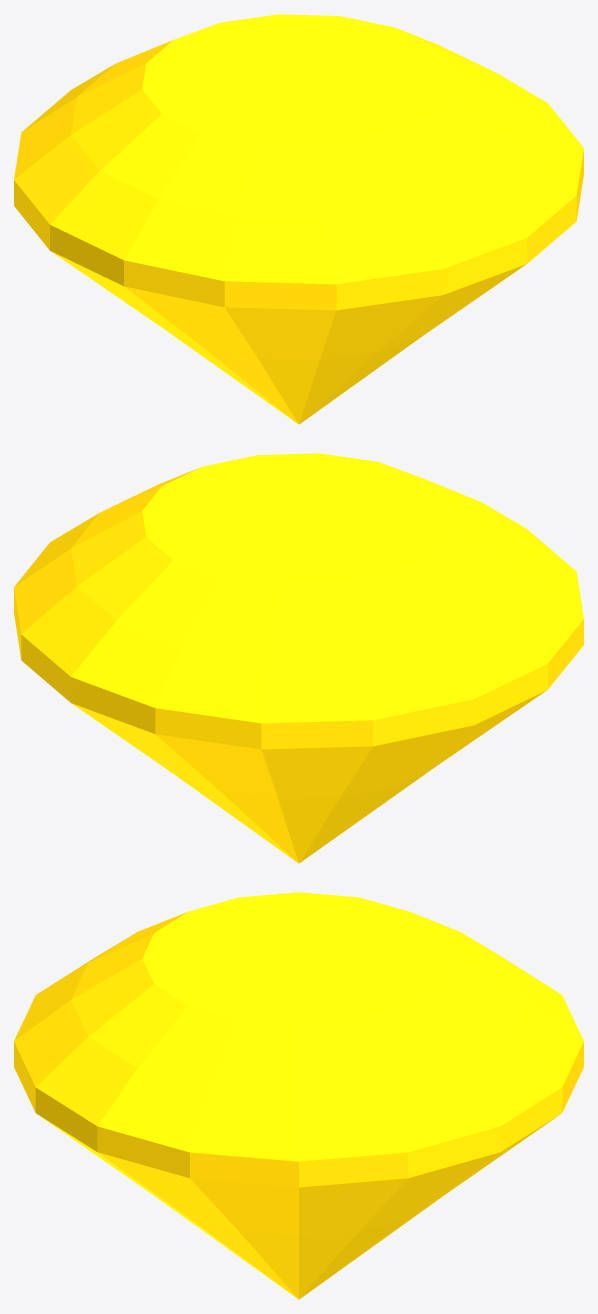
The model's file is citrine-jewel.glb.
3 renders of one model, top to bottom at view 1: azimuth 30°, elevation 25°; view 2: azimuth 150°, elevation 25°; view 3: azimuth 270°, elevation 25°, orthographic.
Parts seen in each view (by area): view 1: Citrine; view 2: Citrine; view 3: Citrine.
Boxes of the visible parts, box(x1,y1,x2,y2) form: Citrine: box(14, 14, 583, 424); Citrine: box(14, 453, 583, 863); Citrine: box(14, 892, 583, 1299).
Size of the model in its own units: 2 by 1.32 by 2.
